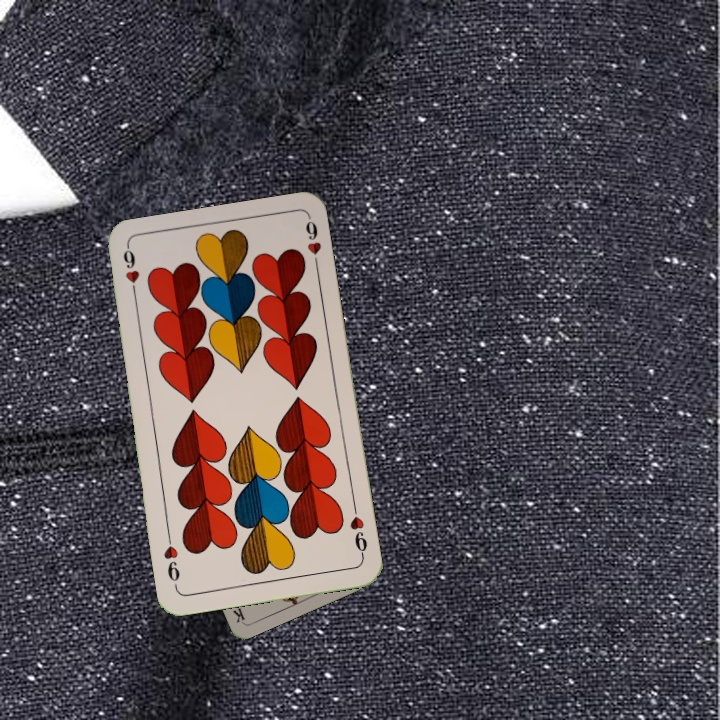H9: (345, 502, 370, 561), (119, 244, 141, 303)
